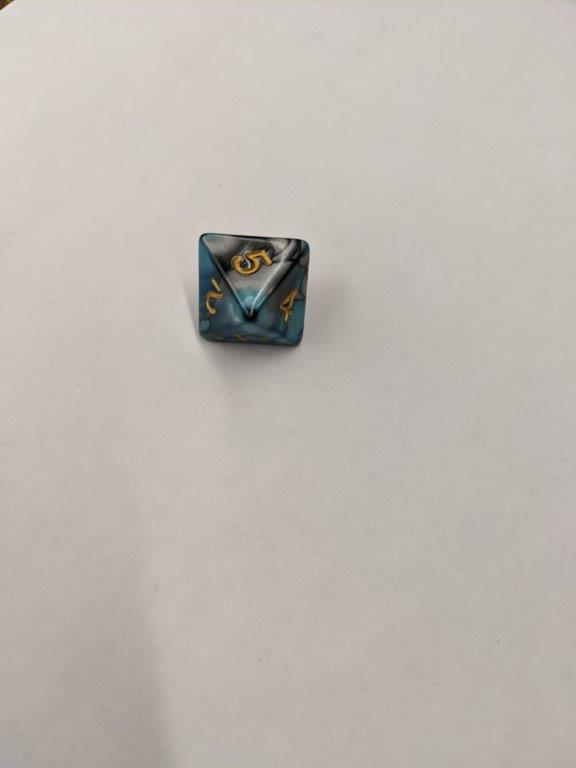d8-5: (194, 230, 310, 350)
